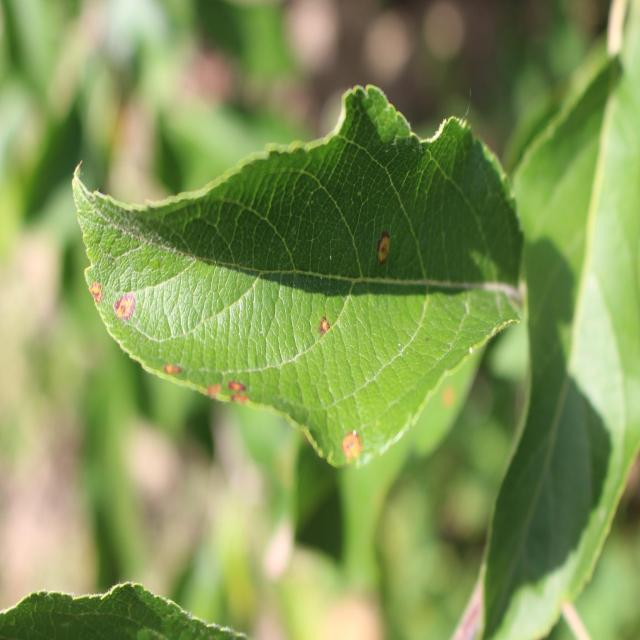Rust: (332, 416, 367, 471), (224, 368, 256, 418), (366, 222, 396, 266), (115, 282, 140, 330), (157, 352, 186, 393), (314, 313, 338, 354), (89, 272, 108, 316), (207, 370, 223, 415)
